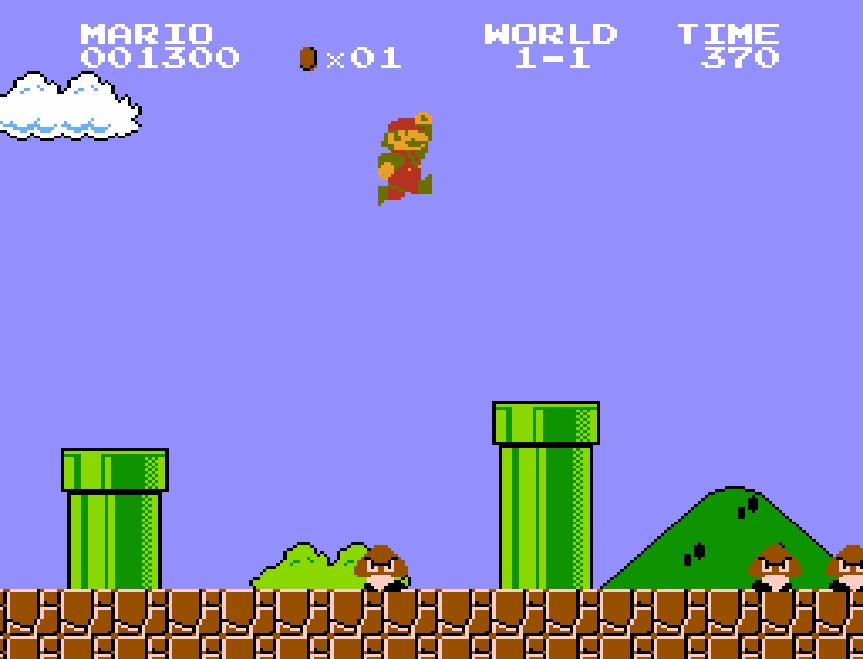big_mario: (376, 109, 434, 207)
